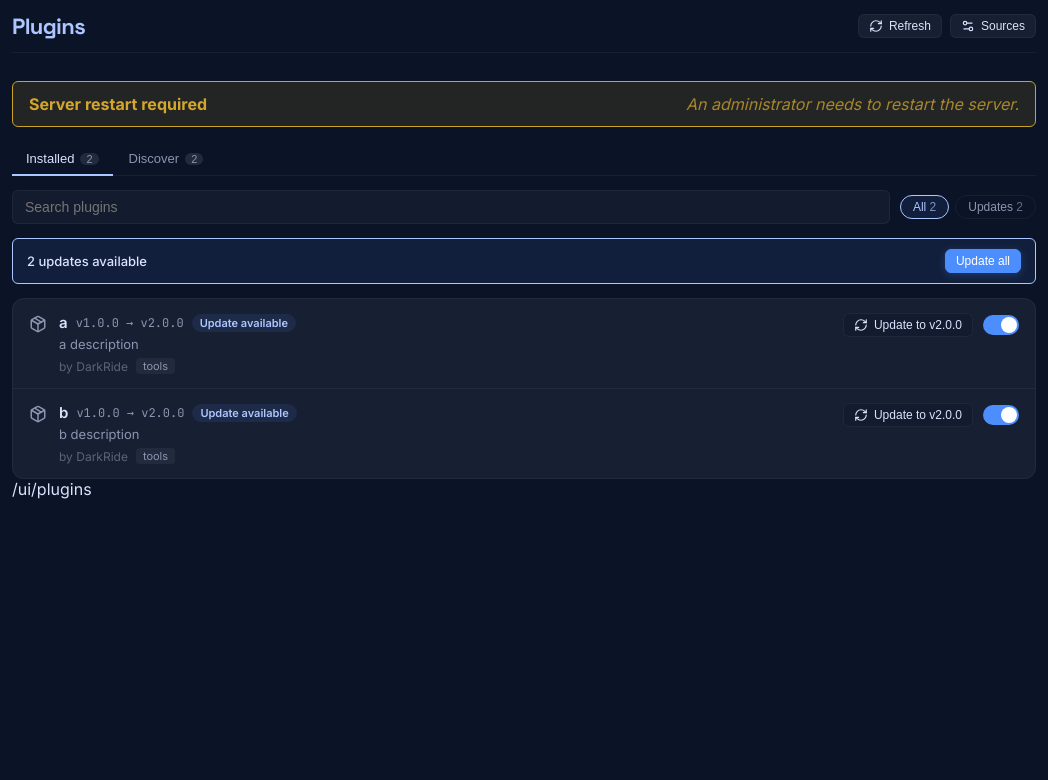
Test: PluginsWorkspace: updates › updates all plugins one after another, never two at once
Expected: the element with test id "plugins-update-strip" shows "2 updates available", [27,253,147,269]
Click the button "Update all": (983, 261) [945,249,1021,273]
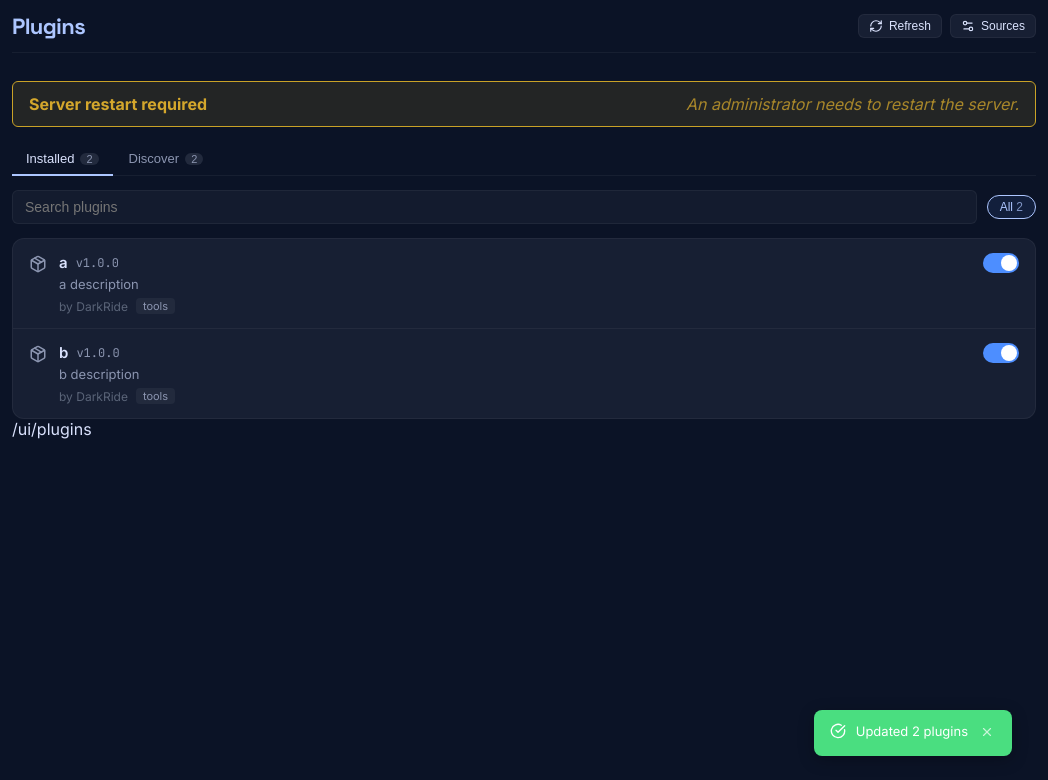
Expected: the text "Updated 2 plugins" is shown, [856,722,968,740]
